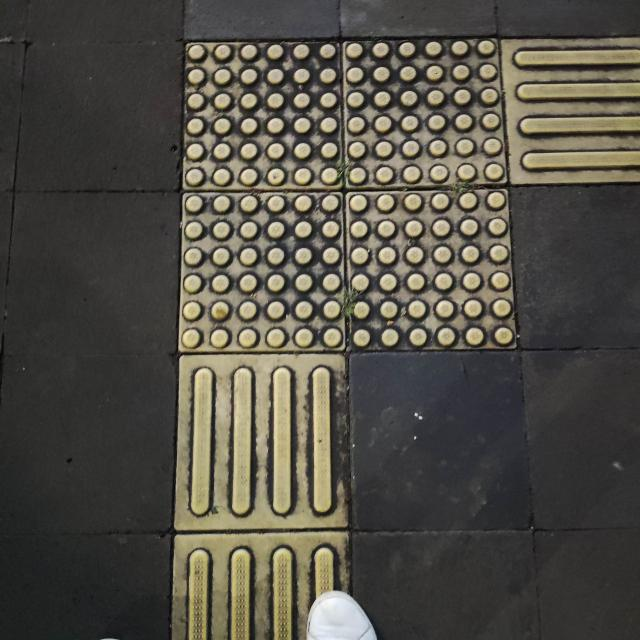kanan: (88, 0, 640, 535)
